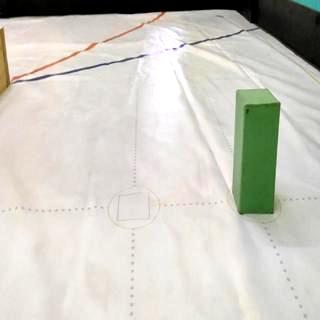greenbox: (233, 88, 283, 214)
